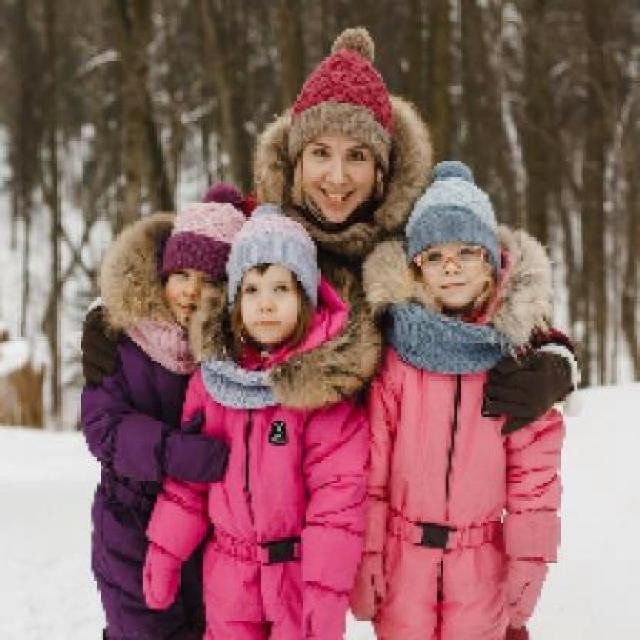child: (137, 202, 386, 638), (352, 160, 572, 637), (78, 180, 252, 637)
